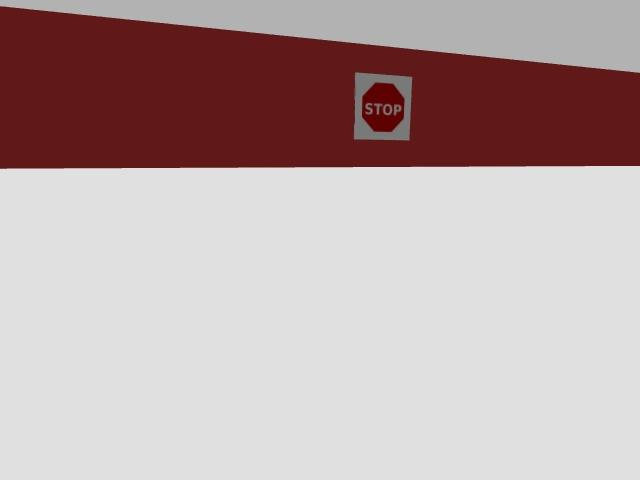stop: (354, 73, 411, 140)
